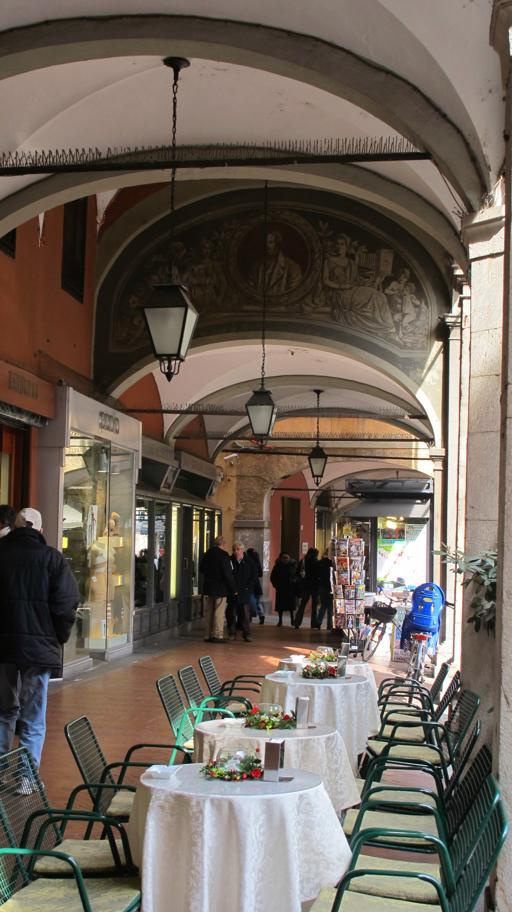non-vehicle: (405, 583, 455, 704), (360, 583, 410, 660)
